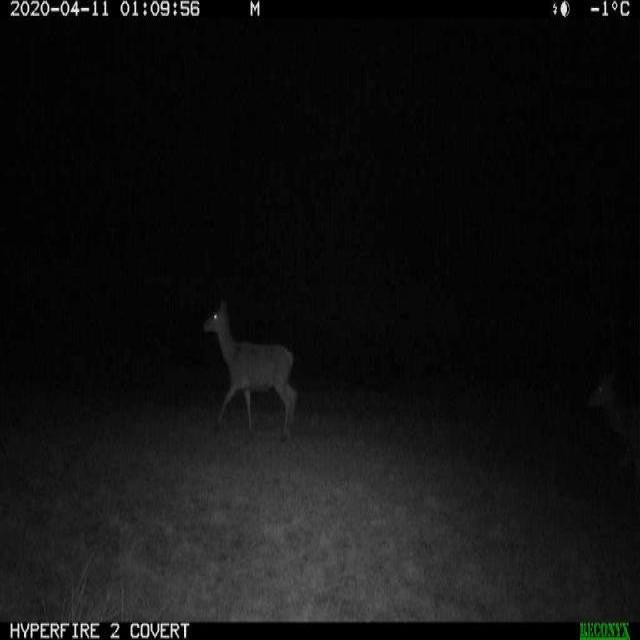deer: (190, 288, 308, 448)
